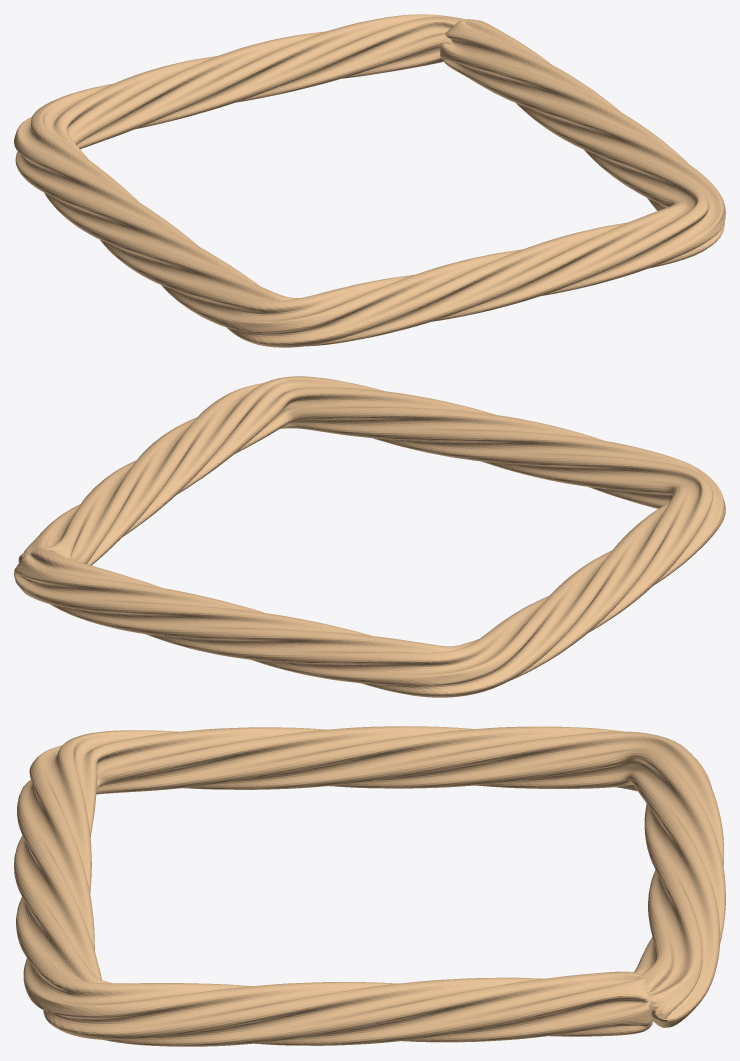
Rendered from CakeFillGlazeCream2.glb.
3 views of the same model, one above another, from view 1: azimuth 30°, elevation 25°; view 2: azimuth 150°, elevation 25°; view 3: azimuth 270°, elevation 25° (orthographic). The views are drawn at different scales.
Parts seen in each view (by area): view 1: Cylinder.011; view 2: Cylinder.011; view 3: Cylinder.011.
Boxes of the visible parts, x1,y1,x2,y2 form: Cylinder.011: [14, 14, 725, 347]; Cylinder.011: [14, 376, 725, 697]; Cylinder.011: [14, 726, 725, 1046].
Bounding box in the file's own units: 1.96 × 0.1996 × 2.02.
